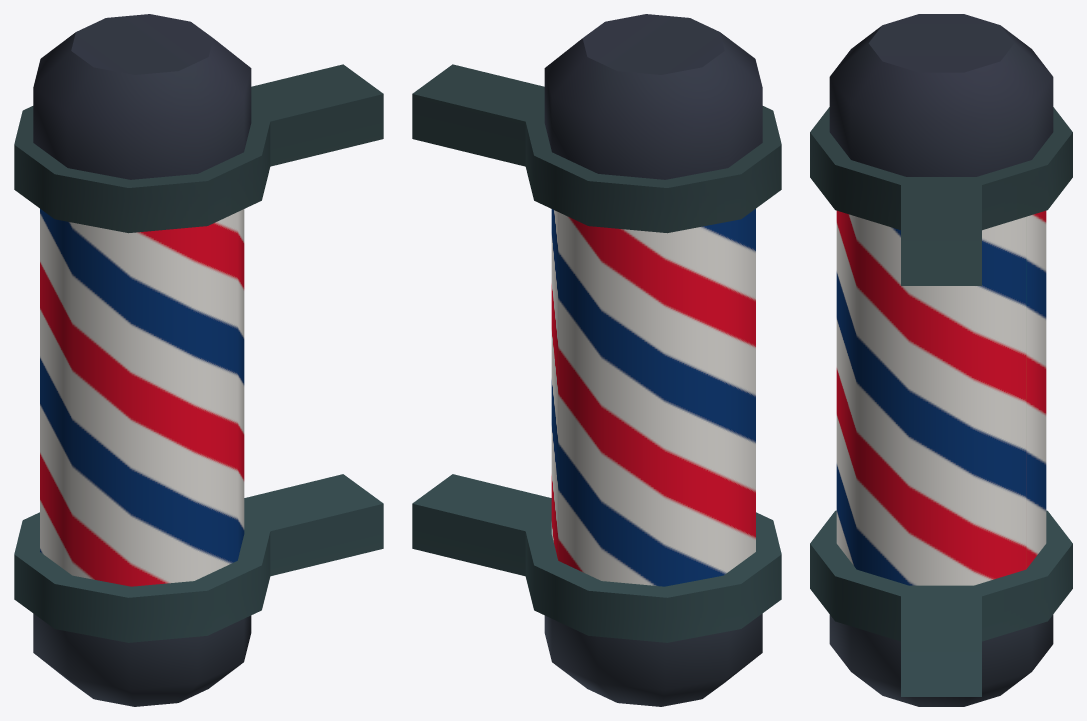
Rendered from BarberSign.glb.
The picture shows the model from 3 angles, left to right: view 1: azimuth 30°, elevation 25°; view 2: azimuth 150°, elevation 25°; view 3: azimuth 270°, elevation 25°; orthographic projection.
Parts seen in each view (by area): view 1: BarberSign, BarberSignPart; view 2: BarberSign, BarberSignPart; view 3: BarberSign, BarberSignPart.
Boxes of the visible parts, left/top/right/bottom form: BarberSign: left=14, top=14, right=383, bottom=706; BarberSignPart: left=40, top=209, right=244, bottom=586; BarberSign: left=412, top=14, right=781, bottom=706; BarberSignPart: left=551, top=209, right=755, bottom=586; BarberSign: left=810, top=14, right=1072, bottom=706; BarberSignPart: left=836, top=210, right=1046, bottom=585.
Bounding box in the file's own units: 0.5189 × 0.9522 × 0.3576.
Materials: 2 (2 with a texture image).
